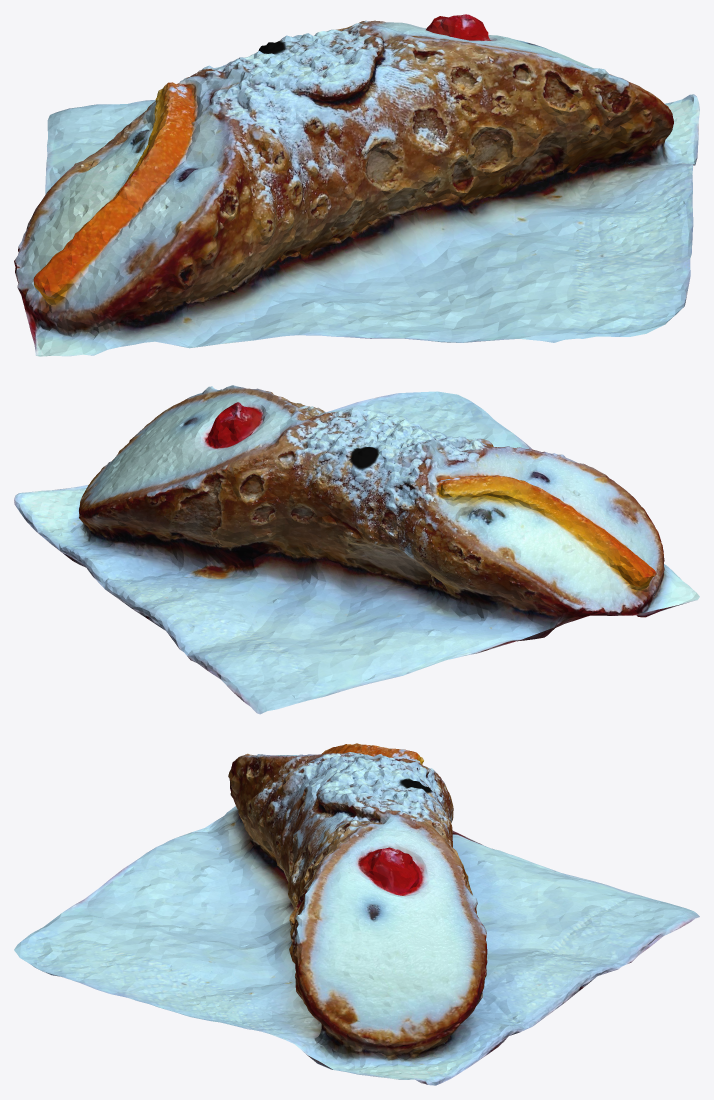
3 views of the same model, one above another, from view 1: azimuth 30°, elevation 25°; view 2: azimuth 150°, elevation 25°; view 3: azimuth 270°, elevation 25° (orthographic). The views are drawn at different scales.
Visible parts, largest first — view 1: model_New Qlone_20250114_230544081; view 2: model_New Qlone_20250114_230544081; view 3: model_New Qlone_20250114_230544081.
Part boxes in pixels (x1=…): model_New Qlone_20250114_230544081: x1=14, y1=14, x2=699, y2=356; model_New Qlone_20250114_230544081: x1=14, y1=385, x2=699, y2=714; model_New Qlone_20250114_230544081: x1=14, y1=743, x2=699, y2=1085.
Bounding box in the file's own units: 222 × 55.82 × 215.
1 material, 1 textured.
